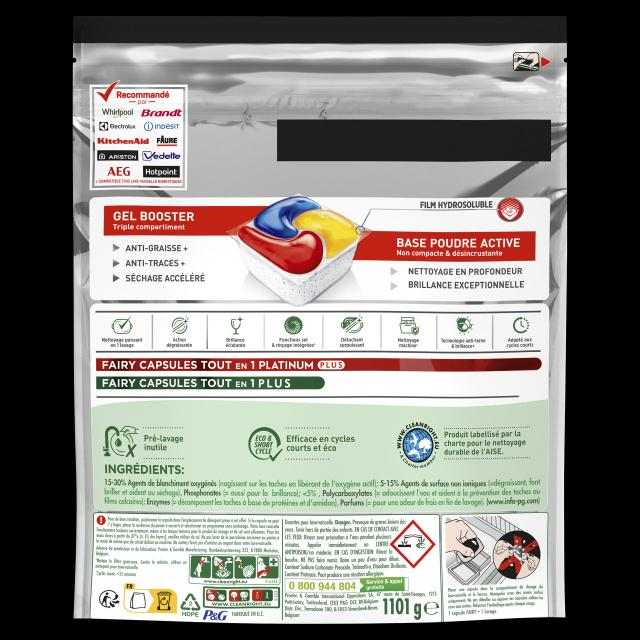GHS_Symbol_CORROSION: (390, 519, 435, 568)
